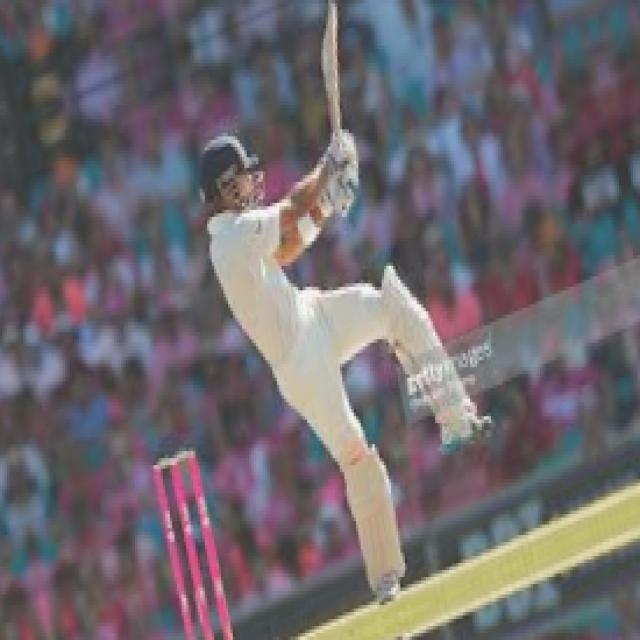toe: (320, 0, 340, 44)
